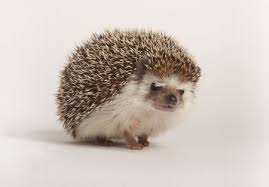hedgehog: (53, 28, 202, 150)
